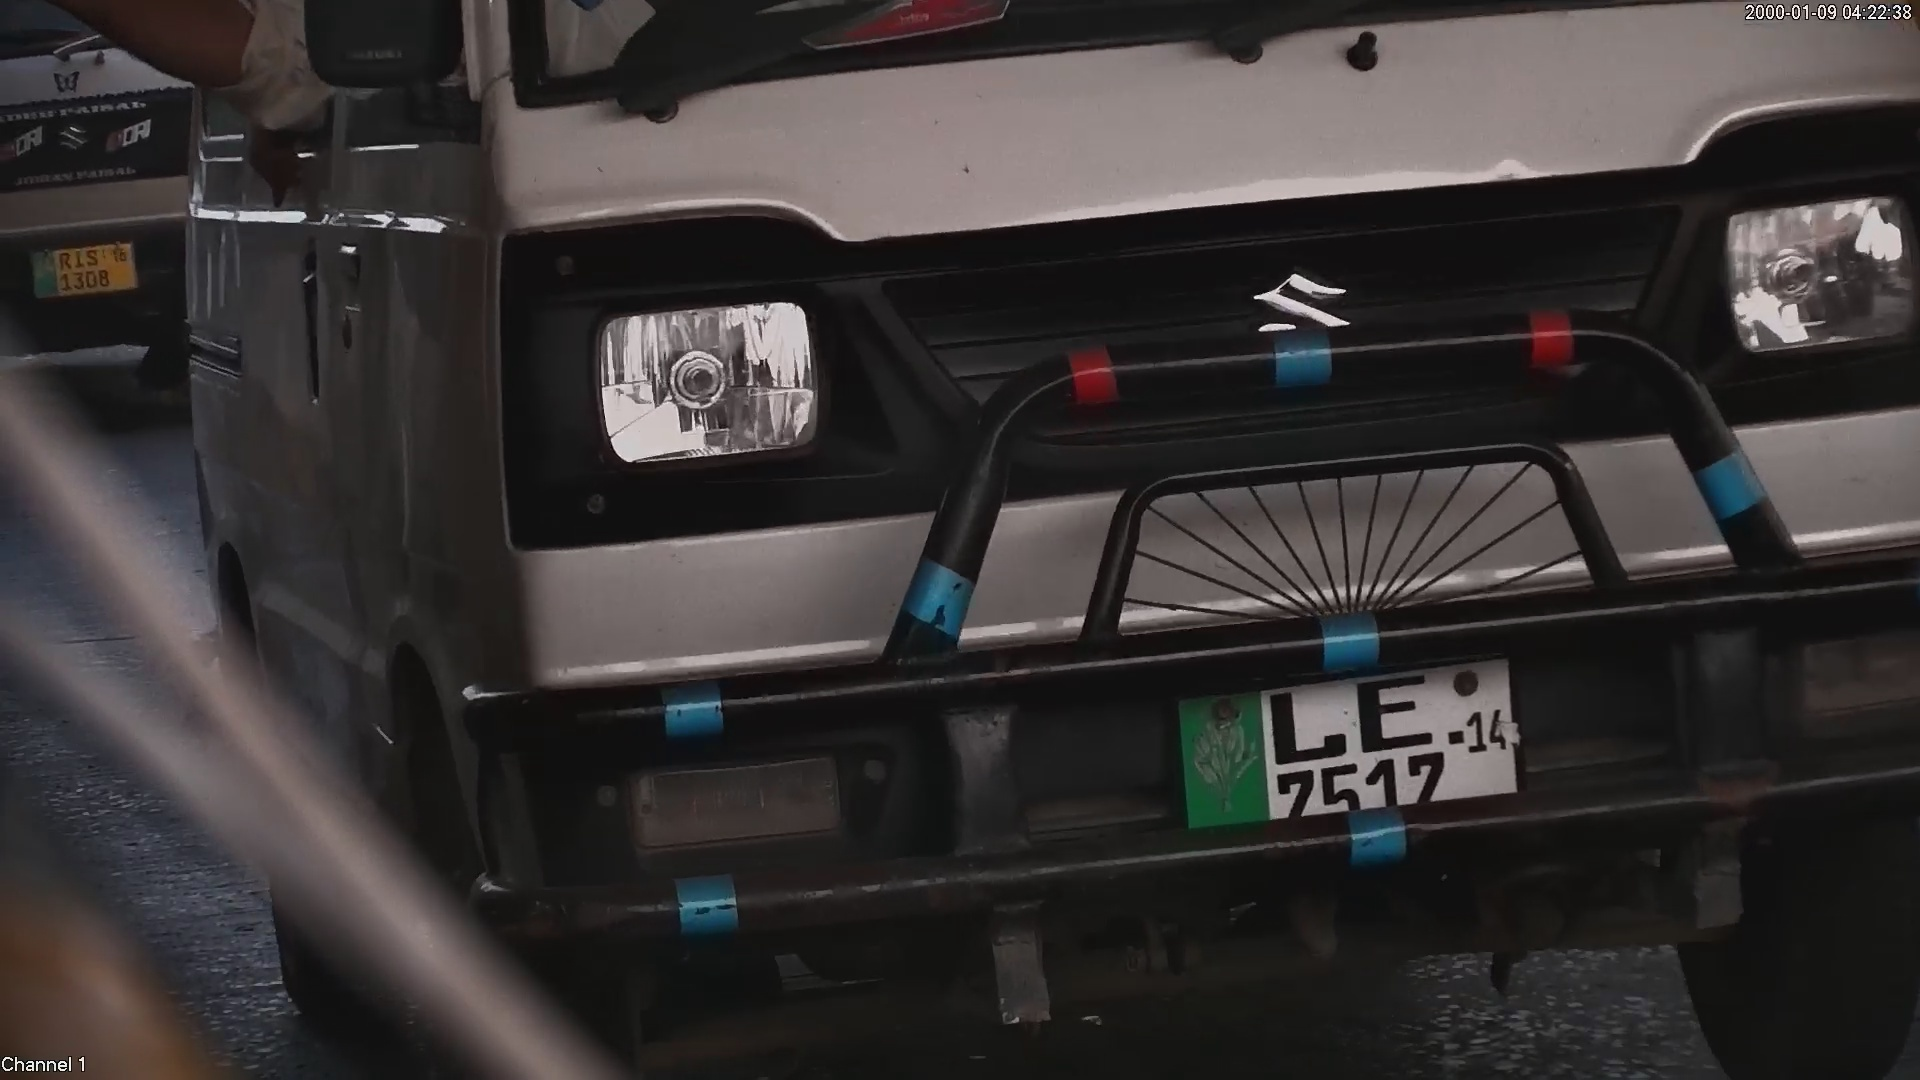Number_Plate: (1141, 636, 1545, 838), (15, 225, 145, 305)
Undefined: (528, 257, 856, 492), (1695, 162, 1908, 377), (600, 718, 893, 864), (1230, 257, 1365, 370)
